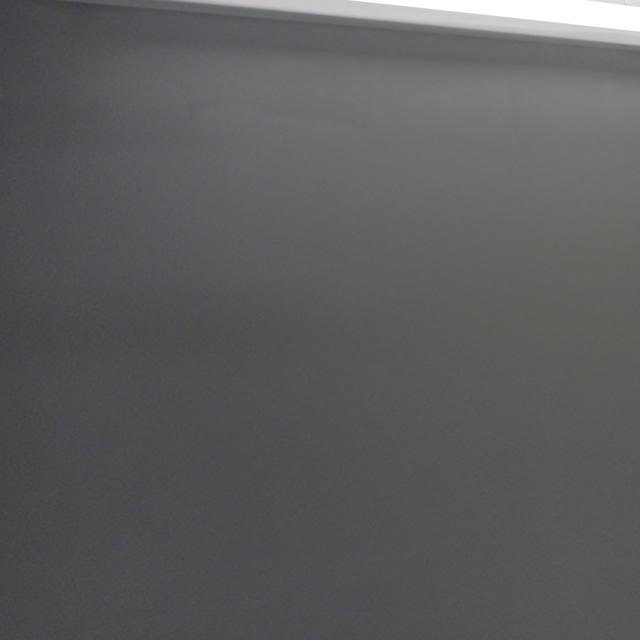fluorescent tube: (15, 0, 640, 107)
